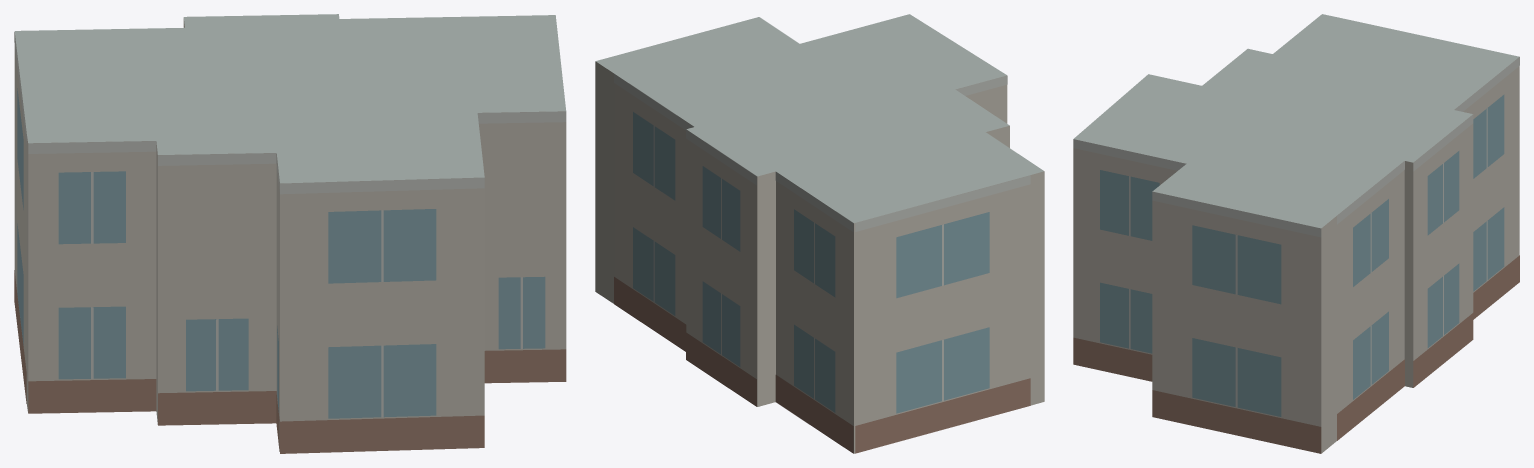
The model's file is survey-upis-32778827.glb.
3 views of the same model, side by side, from view 1: azimuth 30°, elevation 25°; view 2: azimuth 150°, elevation 25°; view 3: azimuth 270°, elevation 25° (orthographic). The views are drawn at different scales.
Parts seen in each view (by area): view 1: survey-upis-32778827.tmp; view 2: survey-upis-32778827.tmp; view 3: survey-upis-32778827.tmp.
Part boxes in pixels (x1,y1,x2,y2): survey-upis-32778827.tmp: (14,14,566,453); survey-upis-32778827.tmp: (595,14,1044,453); survey-upis-32778827.tmp: (1073,14,1519,453).
Bounding box in the file's own units: 12.45 × 6.1 × 10.96.
